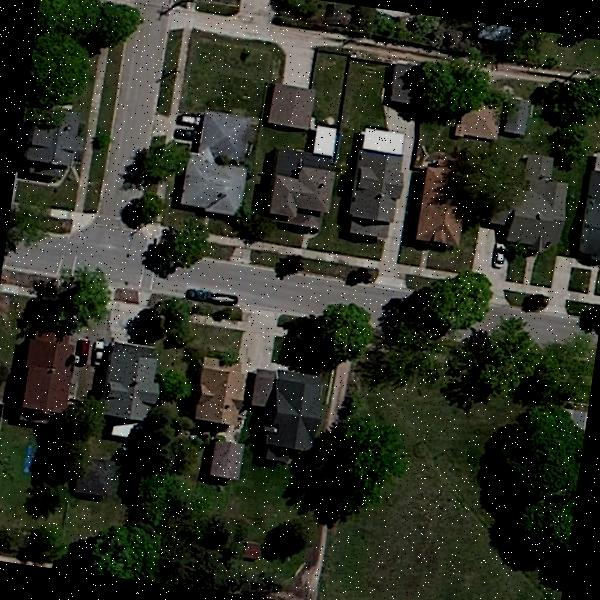Buildings: (187, 115, 254, 214), (505, 160, 567, 246), (351, 130, 402, 228), (254, 376, 318, 446), (18, 106, 74, 180), (103, 346, 158, 416), (272, 158, 332, 221), (22, 334, 72, 409), (196, 364, 246, 426), (577, 171, 600, 261), (270, 87, 315, 123), (509, 102, 524, 132)
